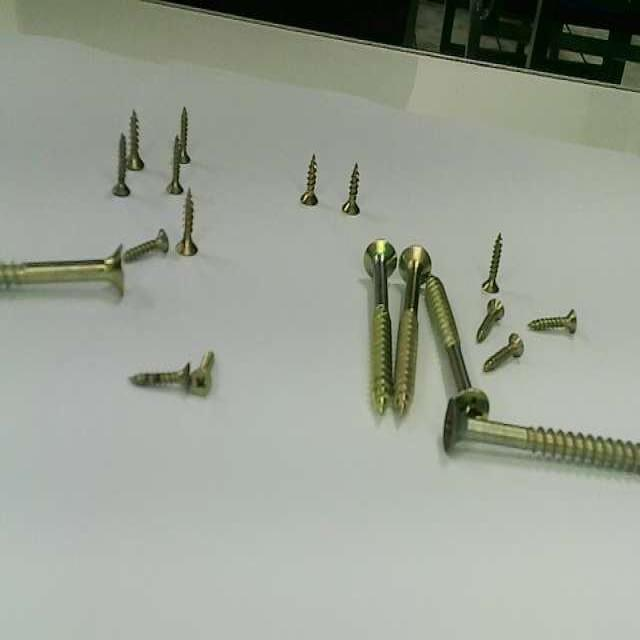Parafuso: (443, 389, 639, 472), (394, 245, 430, 413), (0, 245, 122, 293), (365, 240, 396, 413), (426, 275, 471, 389), (483, 333, 523, 371), (124, 229, 168, 261), (176, 188, 197, 255), (130, 363, 190, 385), (482, 233, 501, 292), (528, 309, 576, 332), (112, 133, 129, 196), (477, 300, 503, 340), (190, 353, 213, 395), (127, 109, 143, 169), (167, 136, 183, 193), (300, 153, 315, 204), (342, 163, 357, 213), (180, 107, 190, 163)
